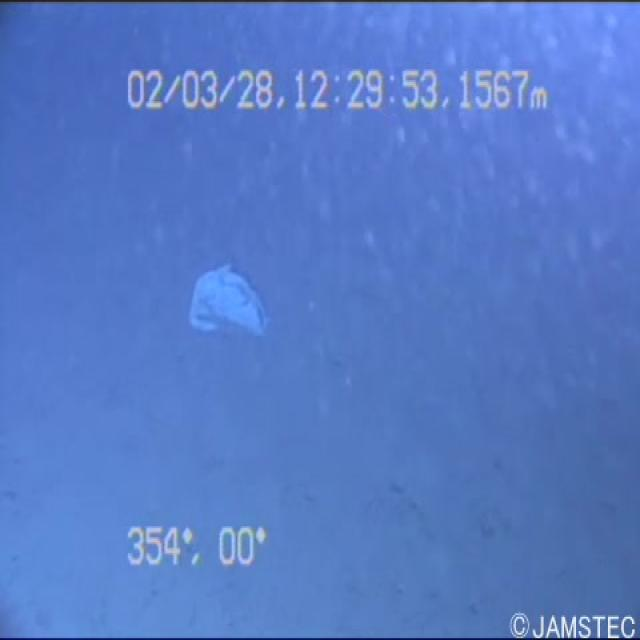plastic: (167, 252, 293, 346)
